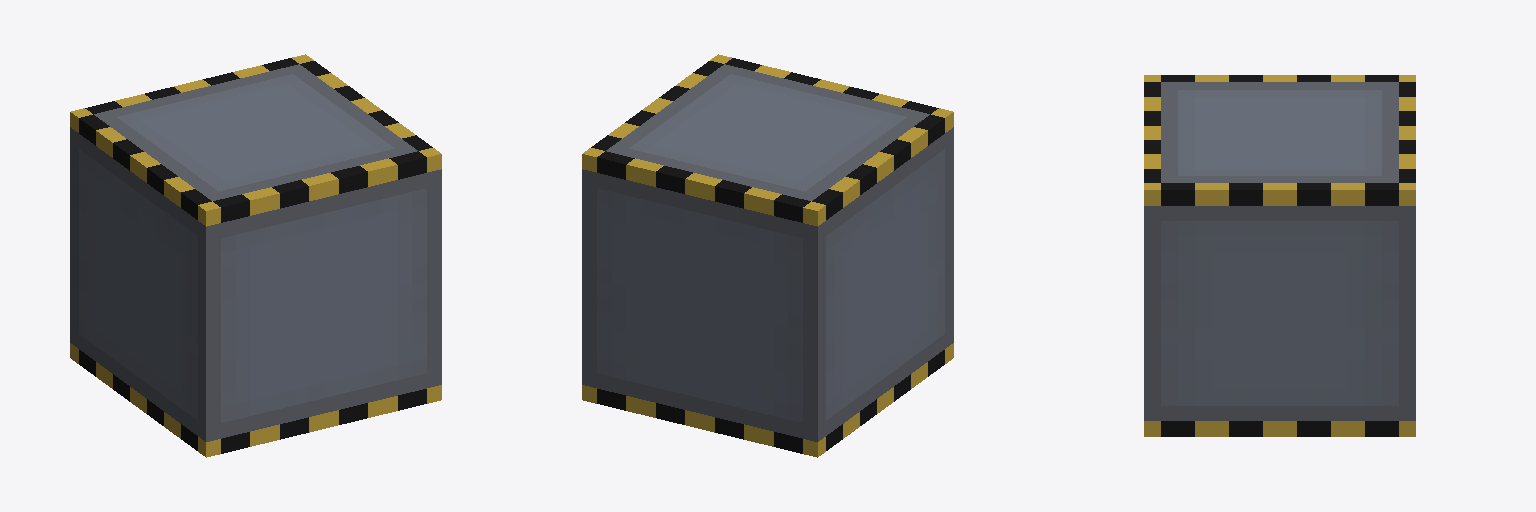
3 renders of one model, left to right at view 1: azimuth 30°, elevation 25°; view 2: azimuth 150°, elevation 25°; view 3: azimuth 270°, elevation 25°, orthographic.
Visible parts, largest first — view 1: cuboid; view 2: cuboid; view 3: cuboid.
Boxes of the visible parts, x1=… form: cuboid: x1=70, y1=54, x2=441, y2=457; cuboid: x1=582, y1=54, x2=953, y2=457; cuboid: x1=1144, y1=75, x2=1415, y2=436.
Bounding box in the file's own units: 1 × 1 × 1.
Materials: 1 (1 with a texture image).